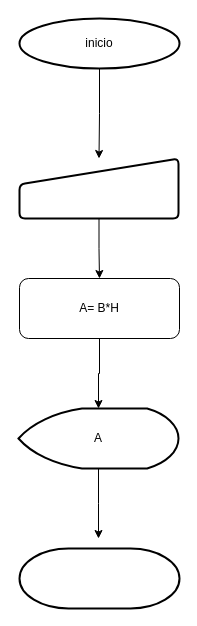
Image size: 197x626. Some labels were removed from this diagram. The box of each missing label's shape, as (x1, y1, x2, y2) in pixels:
B, H: (18, 157, 179, 219)
fim: (18, 547, 180, 609)
